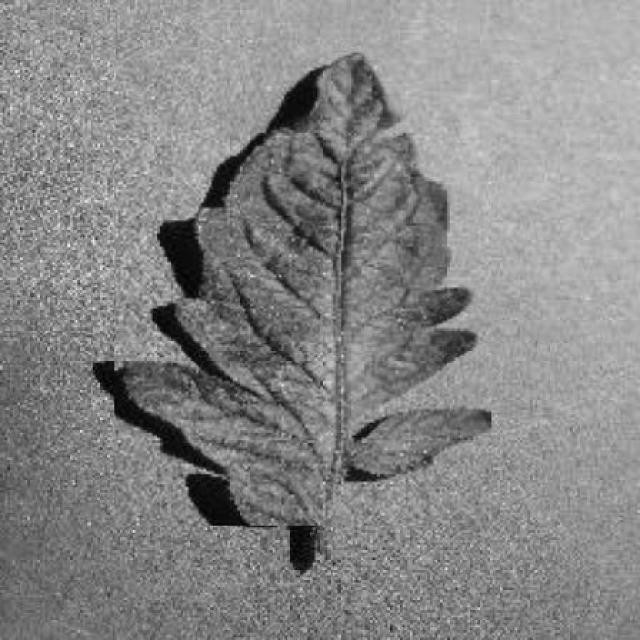Mosaic Virus: (115, 48, 491, 526)
